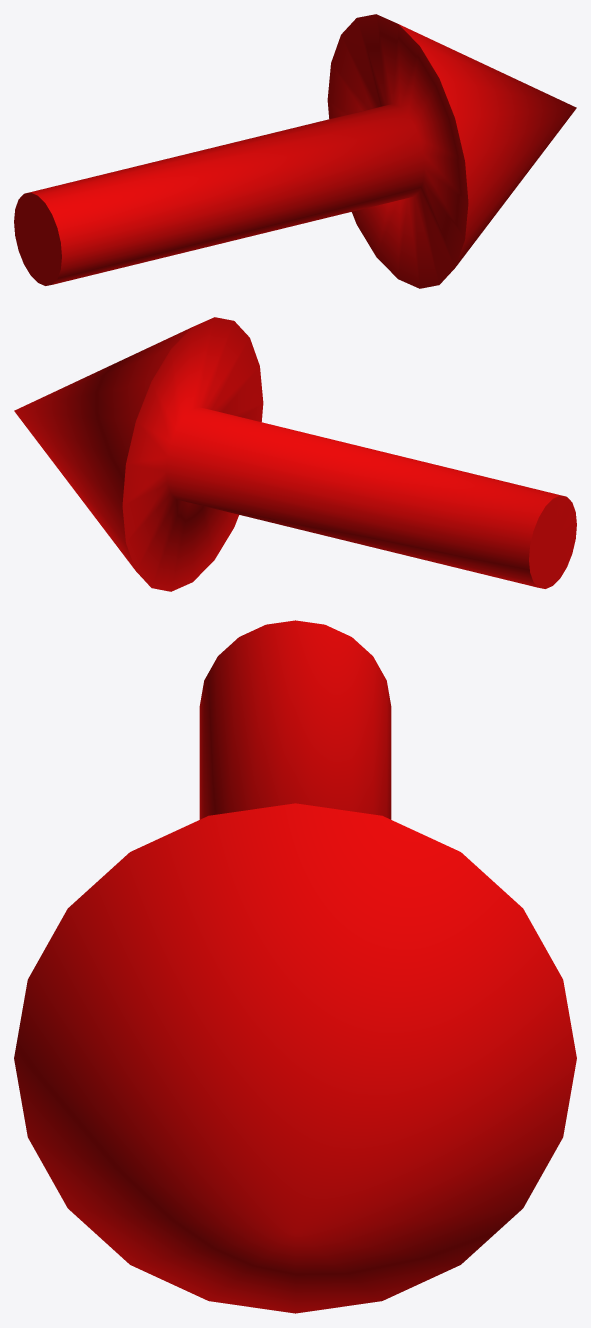
File: RightArrow.fbx
The picture shows the model from 3 angles, top to bottom: view 1: azimuth 30°, elevation 25°; view 2: azimuth 150°, elevation 25°; view 3: azimuth 270°, elevation 25°; orthographic projection. The views are drawn at different scales.
Visible parts, largest first — view 1: pCylinder1; view 2: pCylinder1; view 3: pCylinder1.
Boxes of the visible parts, left/top/right/bottom form: pCylinder1: left=14, top=14, right=576, bottom=288; pCylinder1: left=14, top=317, right=576, bottom=591; pCylinder1: left=14, top=620, right=576, bottom=1313.
Size of the model in its own units: 1.65 by 0.7482 by 0.7482.
